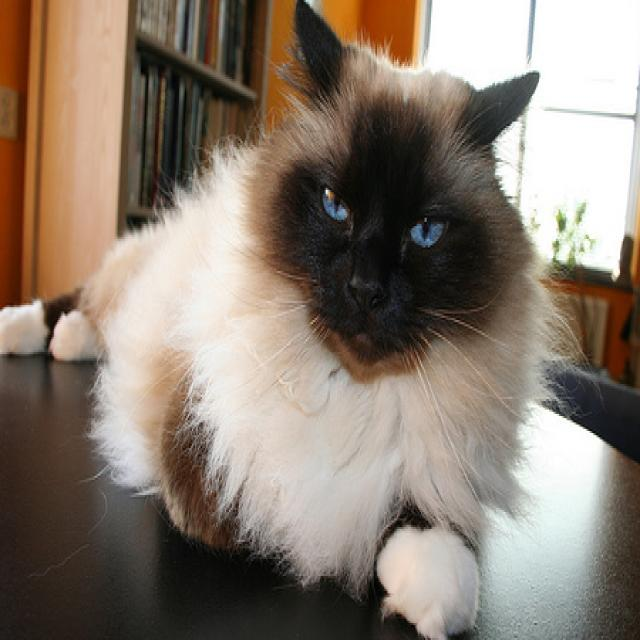Birman: (0, 0, 552, 640)
